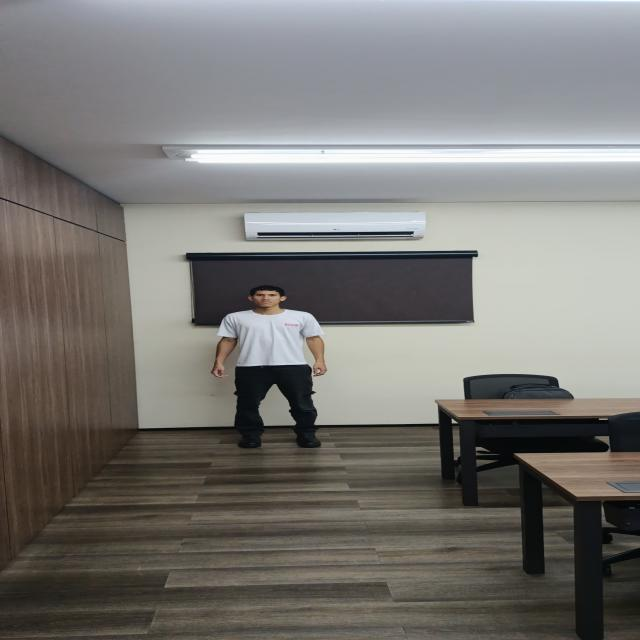sem_oculos: (247, 294, 287, 298)
